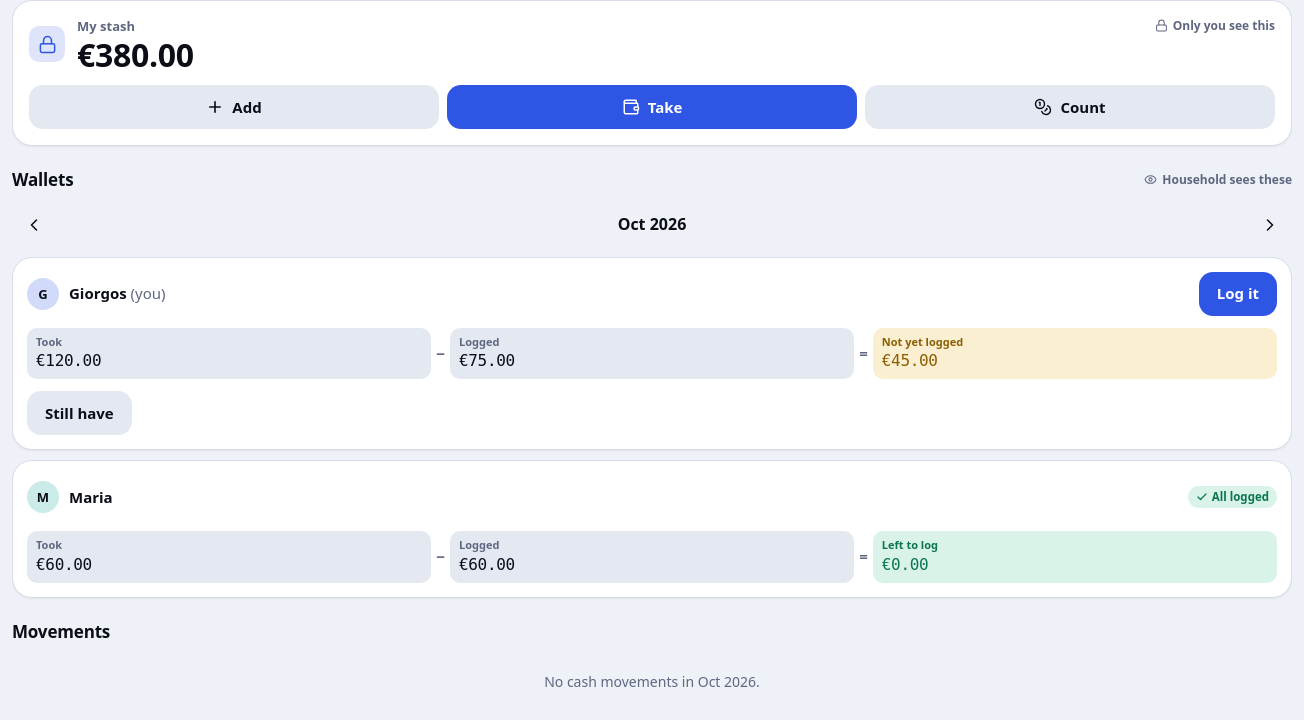
I1: online, a month that fails to load keeps the stash and the stepper
The image size is (1304, 720).
Check: the text "€380.00" is shown, box [77,33,194,76]
Click the button named "Previous month" at (34, 225), box [12,203,56,247]
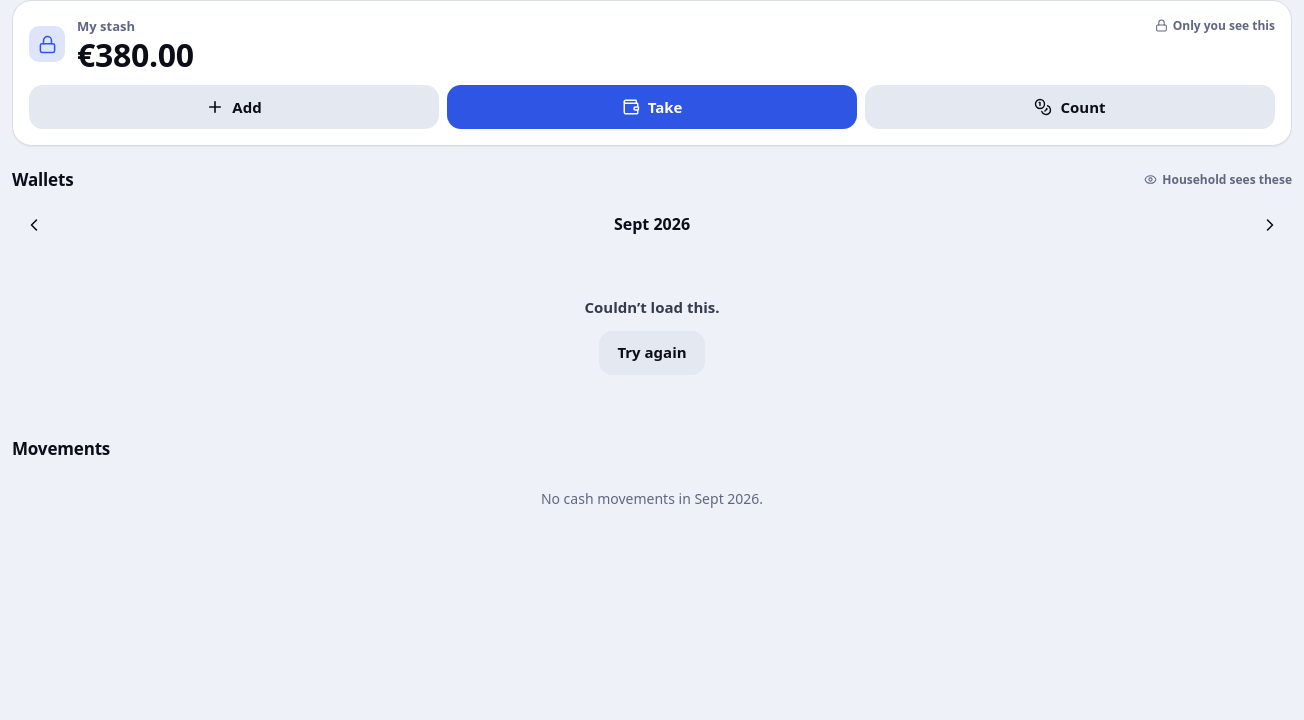
Check: the element "My stash" shows "€380.00", box [77,33,194,76]
Check: the text "Couldn’t load this." is shown, box [584,297,720,319]
